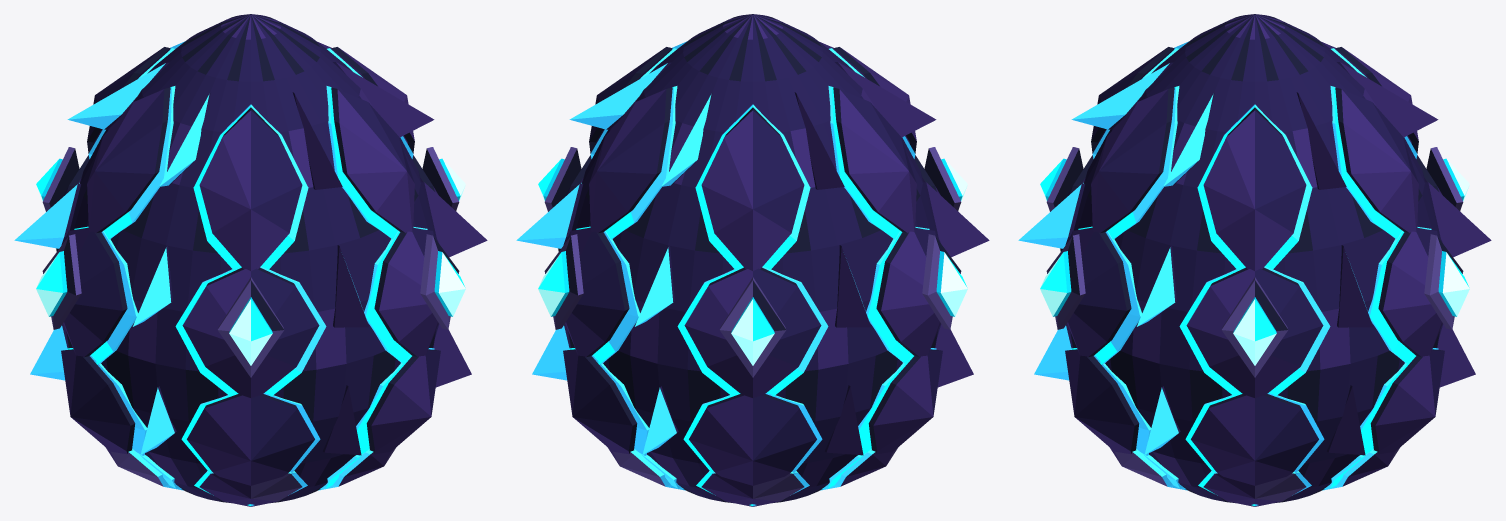
The model's file is 04_Epic_Abyss.glb.
3 views of the same model, side by side, from view 1: azimuth 30°, elevation 25°; view 2: azimuth 150°, elevation 25°; view 3: azimuth 270°, elevation 25° (orthographic).
Visible parts, largest first — view 1: 04_Epic_Abyss_Shell, Abyss_ArmoredPlate_4_2, Abyss_ArmoredPlate_4_1, Abyss_ArmoredPlate_4_0, Abyss_ArmoredPlate_3_2, Abyss_ArmoredPlate_5_2, Abyss_ArmoredPlate_3_1, Abyss_ArmoredPlate_5_1, Abyss_ArmoredPlate_5_0, Abyss_ArmoredPlate_3_0, 04_Epic_Abyss, Abyss_CyanInset_4_1 (+30 smaller); view 2: 04_Epic_Abyss_Shell, Abyss_ArmoredPlate_2_2, Abyss_ArmoredPlate_2_1, Abyss_ArmoredPlate_2_0, Abyss_ArmoredPlate_1_2, Abyss_ArmoredPlate_3_2, Abyss_ArmoredPlate_1_1, Abyss_ArmoredPlate_3_1, Abyss_ArmoredPlate_3_0, Abyss_ArmoredPlate_1_0, 04_Epic_Abyss, Abyss_CyanInset_2_1 (+30 smaller); view 3: 04_Epic_Abyss_Shell, Abyss_ArmoredPlate_0_2, Abyss_ArmoredPlate_0_1, Abyss_ArmoredPlate_0_0, Abyss_ArmoredPlate_5_2, Abyss_ArmoredPlate_1_2, Abyss_ArmoredPlate_5_1, Abyss_ArmoredPlate_1_1, Abyss_ArmoredPlate_1_0, Abyss_ArmoredPlate_5_0, 04_Epic_Abyss, Abyss_CyanInset_0_1 (+30 smaller).
Part boxes in pixels (bbox=[...]): 04_Epic_Abyss_Shell: bbox=[66, 14, 436, 503]; Abyss_ArmoredPlate_4_2: bbox=[199, 107, 302, 270]; Abyss_ArmoredPlate_4_1: bbox=[182, 267, 319, 397]; Abyss_ArmoredPlate_4_0: bbox=[187, 394, 314, 485]; Abyss_ArmoredPlate_3_2: bbox=[87, 87, 170, 233]; Abyss_ArmoredPlate_5_2: bbox=[331, 87, 414, 232]; Abyss_ArmoredPlate_3_1: bbox=[63, 227, 127, 357]; Abyss_ArmoredPlate_5_1: bbox=[374, 227, 438, 356]; Abyss_ArmoredPlate_5_0: bbox=[366, 349, 440, 454]; Abyss_ArmoredPlate_3_0: bbox=[61, 349, 135, 454]; 04_Epic_Abyss: bbox=[105, 447, 396, 506]; Abyss_CyanInset_4_1: bbox=[175, 266, 326, 396]; 04_Epic_Abyss_Shell: bbox=[568, 14, 938, 503]; Abyss_ArmoredPlate_2_2: bbox=[701, 107, 804, 270]; Abyss_ArmoredPlate_2_1: bbox=[684, 267, 821, 397]; Abyss_ArmoredPlate_2_0: bbox=[689, 394, 816, 485]; Abyss_ArmoredPlate_1_2: bbox=[589, 87, 672, 233]; Abyss_ArmoredPlate_3_2: bbox=[833, 87, 916, 232]; Abyss_ArmoredPlate_1_1: bbox=[565, 227, 629, 357]; Abyss_ArmoredPlate_3_1: bbox=[876, 227, 940, 356]; Abyss_ArmoredPlate_3_0: bbox=[868, 349, 942, 454]; Abyss_ArmoredPlate_1_0: bbox=[563, 349, 637, 454]; 04_Epic_Abyss: bbox=[607, 447, 898, 506]; Abyss_CyanInset_2_1: bbox=[677, 266, 828, 396]; 04_Epic_Abyss_Shell: bbox=[1070, 14, 1440, 503]; Abyss_ArmoredPlate_0_2: bbox=[1203, 107, 1306, 270]; Abyss_ArmoredPlate_0_1: bbox=[1186, 267, 1323, 397]; Abyss_ArmoredPlate_0_0: bbox=[1191, 394, 1318, 485]; Abyss_ArmoredPlate_5_2: bbox=[1091, 87, 1174, 233]; Abyss_ArmoredPlate_1_2: bbox=[1335, 87, 1418, 232]; Abyss_ArmoredPlate_5_1: bbox=[1067, 227, 1131, 357]; Abyss_ArmoredPlate_1_1: bbox=[1378, 227, 1442, 356]; Abyss_ArmoredPlate_1_0: bbox=[1370, 349, 1444, 454]; Abyss_ArmoredPlate_5_0: bbox=[1065, 349, 1139, 454]; 04_Epic_Abyss: bbox=[1109, 447, 1400, 506]; Abyss_CyanInset_0_1: bbox=[1179, 266, 1330, 396].
Bounding box in the file's own units: 4.47 × 4.64 × 4.26.
